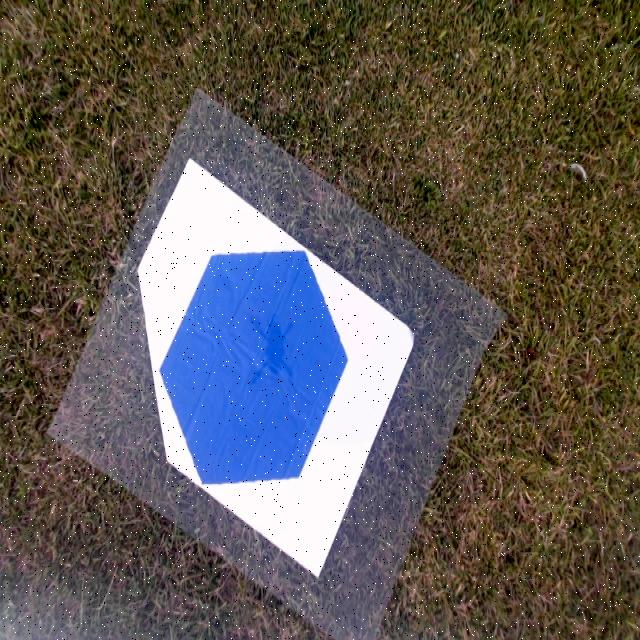blue_hexagon: (159, 252, 347, 484)
